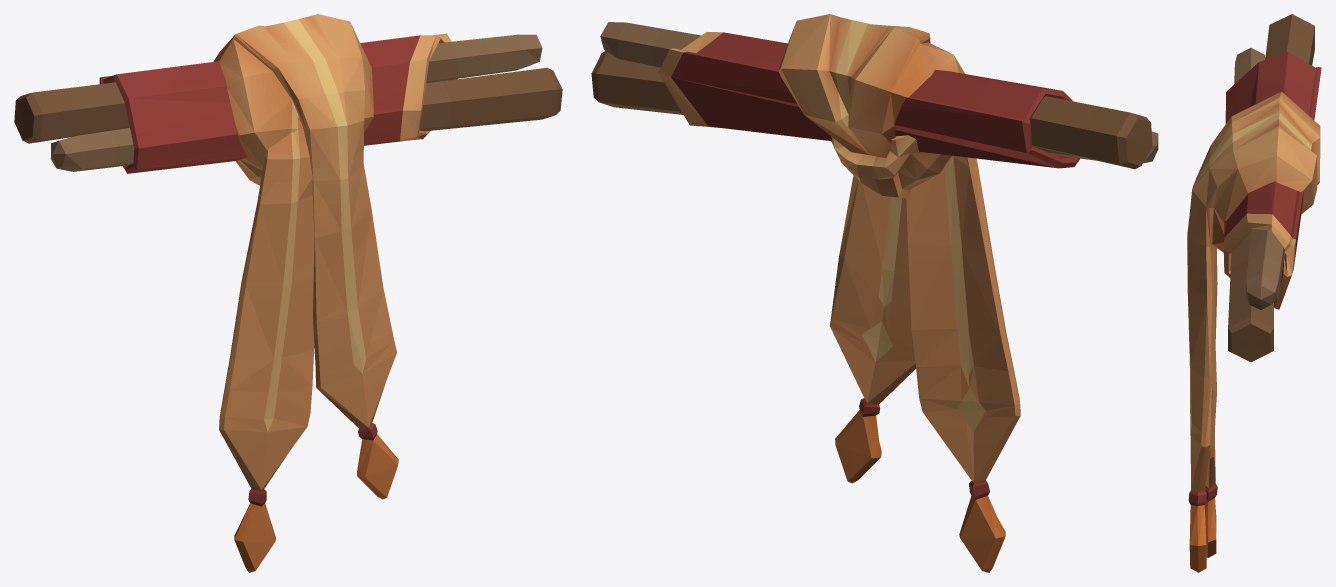
The model's file is CharSkyKid_Prop_AP25ClothDivider.glb.
3 views of the same model, side by side, from view 1: azimuth 30°, elevation 25°; view 2: azimuth 150°, elevation 25°; view 3: azimuth 270°, elevation 25° (orthographic). The views are drawn at different scales.
Parts seen in each view (by area): view 1: CharSkyKid_Prop_AP25ClothDivider; view 2: CharSkyKid_Prop_AP25ClothDivider; view 3: CharSkyKid_Prop_AP25ClothDivider.
Boxes of the visible parts, x1,y1,x2,y2 form: CharSkyKid_Prop_AP25ClothDivider: [14, 14, 562, 572]; CharSkyKid_Prop_AP25ClothDivider: [591, 14, 1158, 572]; CharSkyKid_Prop_AP25ClothDivider: [1187, 14, 1321, 572].
Size of the model in its own units: 5.14 by 4.91 by 1.24.
Materials: 1 (1 with a texture image).
